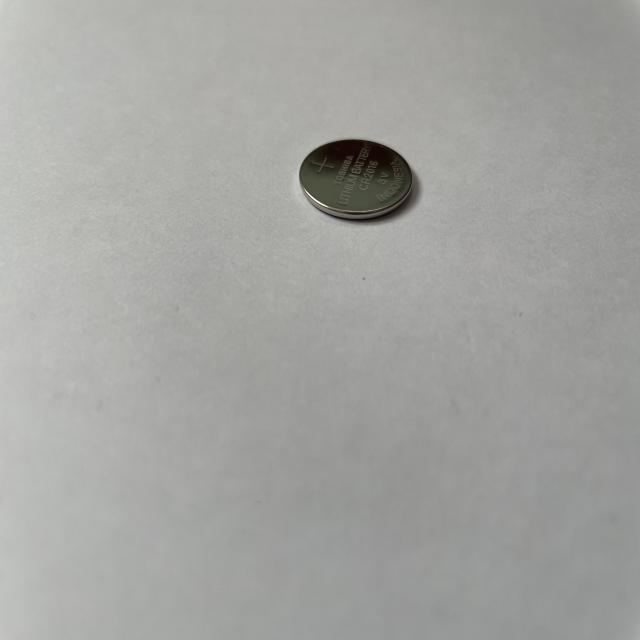COIN: (296, 137, 417, 224)
